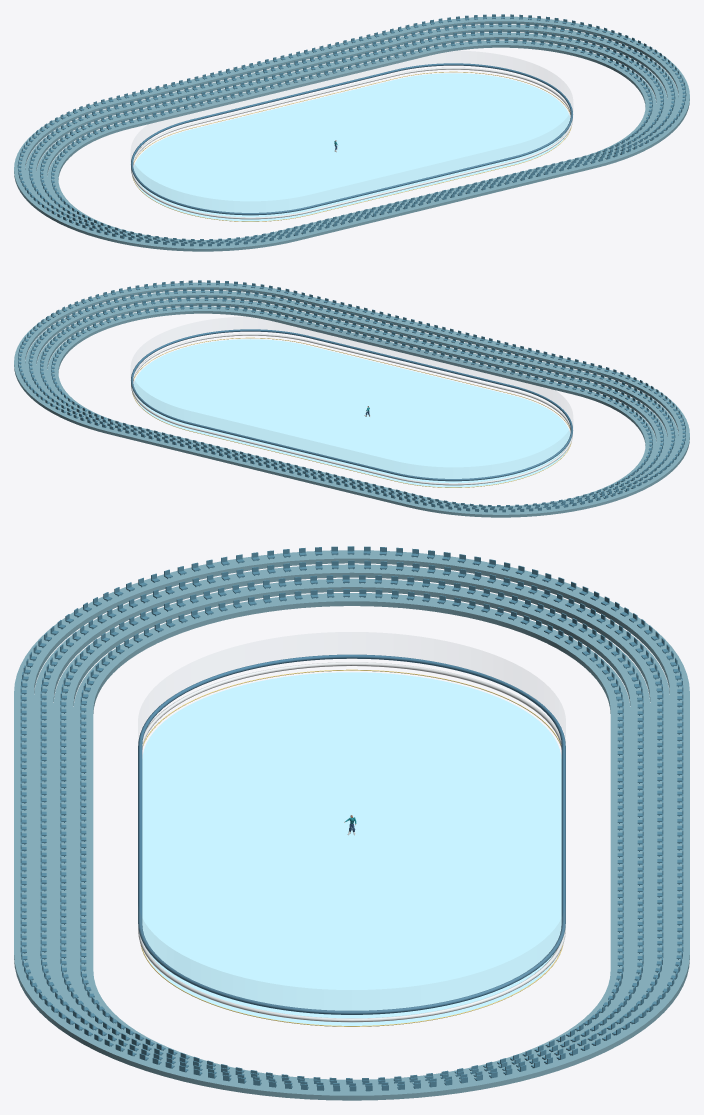
File: single-axel-1a-human-rink-v67-web.glb
3 renders of one model, top to bottom at view 1: azimuth 30°, elevation 25°; view 2: azimuth 150°, elevation 25°; view 3: azimuth 270°, elevation 25°, orthographic. The views are drawn at different scales.
Parts seen in each view (by area): view 1: V23 capsule ice · 60 m × 30 m (30 m straights + semicircles), V23 · continuous capsule tier 4, V23 · continuous capsule tier 3, V23 · continuous capsule tier 1, V23 · continuous capsule tier 2, V23 · empty seat row 4 · 204 seats, V23 · empty seat row 3 · 196 seats, V23 · empty seat row 2 · 189 seats, V23 · empty seat row 1 · 181 seats, V23 continuous capsule top cap, V23 continuous capsule boards, V23 continuous capsule kick plate; view 2: V23 capsule ice · 60 m × 30 m (30 m straights + semicircles), V23 · continuous capsule tier 4, V23 · continuous capsule tier 3, V23 · continuous capsule tier 2, V23 · continuous capsule tier 1, V23 · empty seat row 4 · 204 seats, V23 · empty seat row 3 · 196 seats, V23 · empty seat row 2 · 189 seats, V23 · empty seat row 1 · 181 seats, V23 continuous capsule top cap, V23 continuous capsule boards, V23 continuous capsule kick plate; view 3: V23 capsule ice · 60 m × 30 m (30 m straights + semicircles), V23 · continuous capsule tier 4, V23 · continuous capsule tier 3, V23 · continuous capsule tier 2, V23 · continuous capsule tier 1, V23 · empty seat row 4 · 204 seats, V23 · empty seat row 3 · 196 seats, V23 · empty seat row 2 · 189 seats, V23 · empty seat row 1 · 181 seats, V23 continuous capsule top cap, V23 continuous capsule boards, V23 continuous capsule kick plate.
Part boxes in pixels (box(x1,y1,x2,y2)): V23 capsule ice · 60 m × 30 m (30 m straights + semicircles): box(133, 73, 570, 221); V23 · continuous capsule tier 4: box(14, 16, 689, 251); V23 · continuous capsule tier 3: box(25, 24, 678, 244); V23 · continuous capsule tier 1: box(47, 40, 656, 241); V23 · continuous capsule tier 2: box(36, 32, 667, 242); V23 · empty seat row 4 · 204 seats: box(17, 14, 686, 246); V23 · empty seat row 3 · 196 seats: box(28, 22, 675, 244); V23 · empty seat row 2 · 189 seats: box(40, 30, 663, 242); V23 · empty seat row 1 · 181 seats: box(51, 38, 652, 241); V23 continuous capsule top cap: box(131, 63, 572, 215); V23 continuous capsule boards: box(131, 67, 572, 219); V23 continuous capsule kick plate: box(132, 71, 571, 221); V23 capsule ice · 60 m × 30 m (30 m straights + semicircles): box(133, 339, 570, 487); V23 · continuous capsule tier 4: box(14, 282, 689, 517); V23 · continuous capsule tier 3: box(25, 290, 678, 510); V23 · continuous capsule tier 2: box(36, 298, 667, 508); V23 · continuous capsule tier 1: box(47, 306, 656, 507); V23 · empty seat row 4 · 204 seats: box(18, 280, 685, 512); V23 · empty seat row 3 · 196 seats: box(28, 288, 675, 510); V23 · empty seat row 2 · 189 seats: box(40, 296, 663, 508); V23 · empty seat row 1 · 181 seats: box(51, 304, 652, 507); V23 continuous capsule top cap: box(131, 329, 572, 481); V23 continuous capsule boards: box(131, 333, 572, 485); V23 continuous capsule kick plate: box(132, 337, 571, 487); V23 capsule ice · 60 m × 30 m (30 m straights + semicircles): box(142, 672, 561, 1025); V23 · continuous capsule tier 4: box(14, 550, 689, 1100); V23 · continuous capsule tier 3: box(34, 564, 669, 1087); V23 · continuous capsule tier 2: box(53, 578, 650, 1084); V23 · continuous capsule tier 1: box(73, 593, 630, 1082); V23 · empty seat row 4 · 204 seats: box(20, 546, 683, 1091); V23 · empty seat row 3 · 196 seats: box(40, 560, 663, 1087); V23 · empty seat row 2 · 189 seats: box(60, 575, 643, 1084); V23 · empty seat row 1 · 181 seats: box(80, 589, 623, 1081); V23 continuous capsule top cap: box(138, 654, 565, 1014); V23 continuous capsule boards: box(138, 662, 565, 1022); V23 continuous capsule kick plate: box(140, 669, 563, 1026).
Size of the model in its own units: 92.36 by 3.04 by 48.36.
